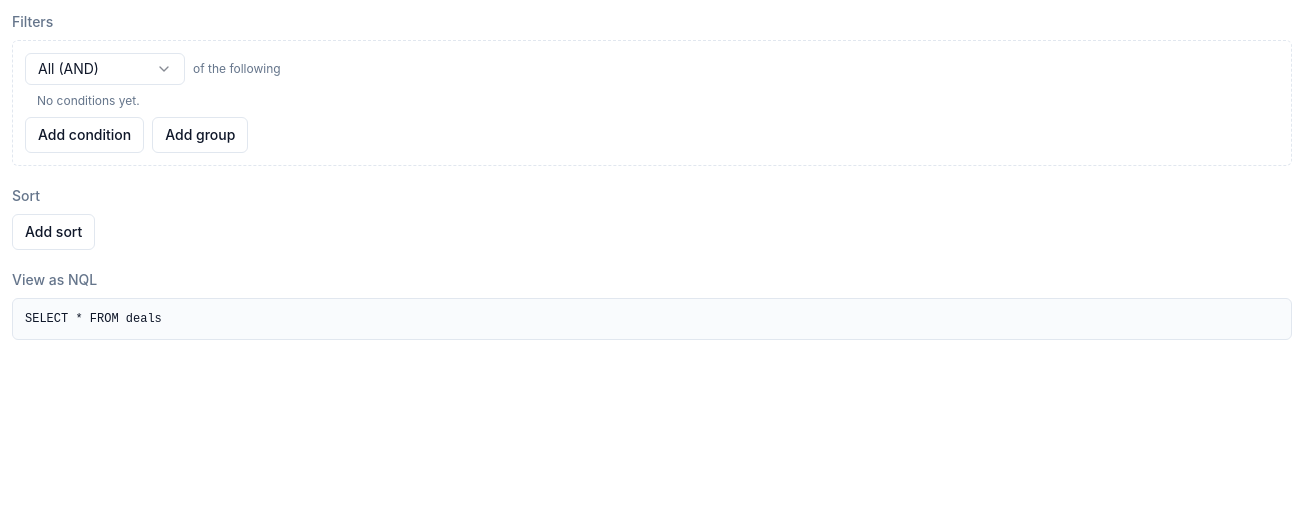
Test: QueryBuilder › splits a list value for an `in` operator
Click the button "Add condition" at (85,135), box [25,117,144,153]
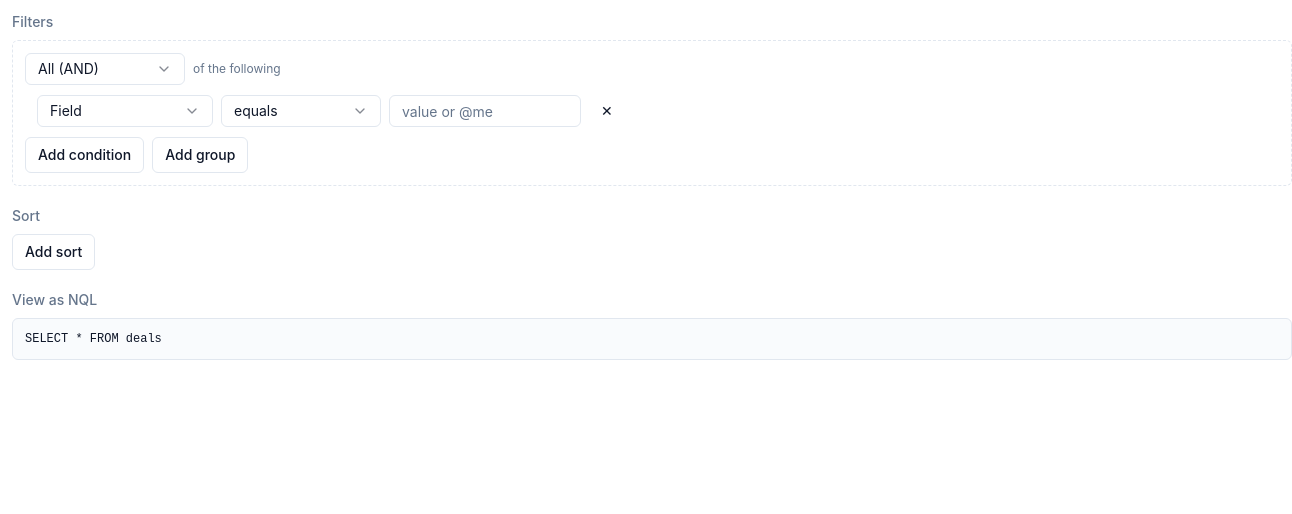
Click the dropdown labelled "Field" at (125,111), box [37,95,213,127]
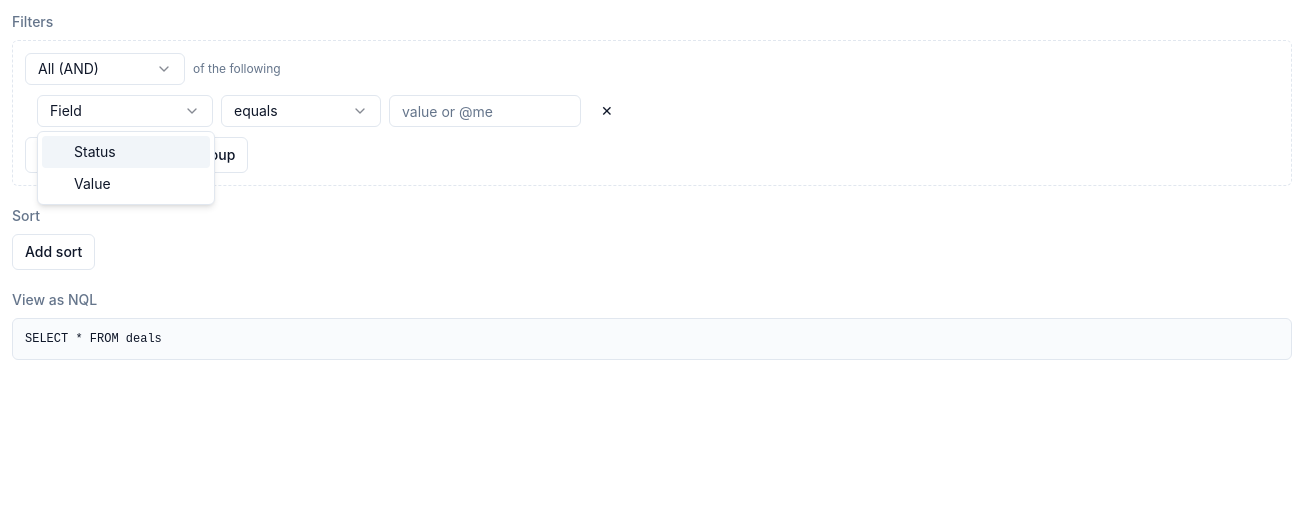
Click the option "Status" at (126,152), box [42,136,210,168]
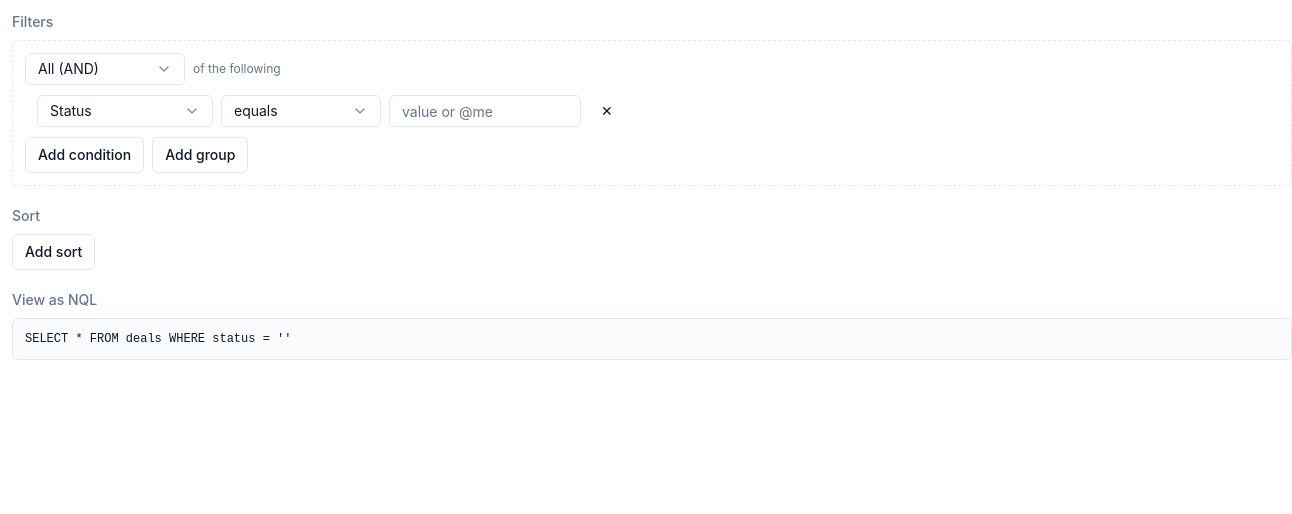
Click the dropdown named "Operator" at (301,111), box [221,95,381,127]
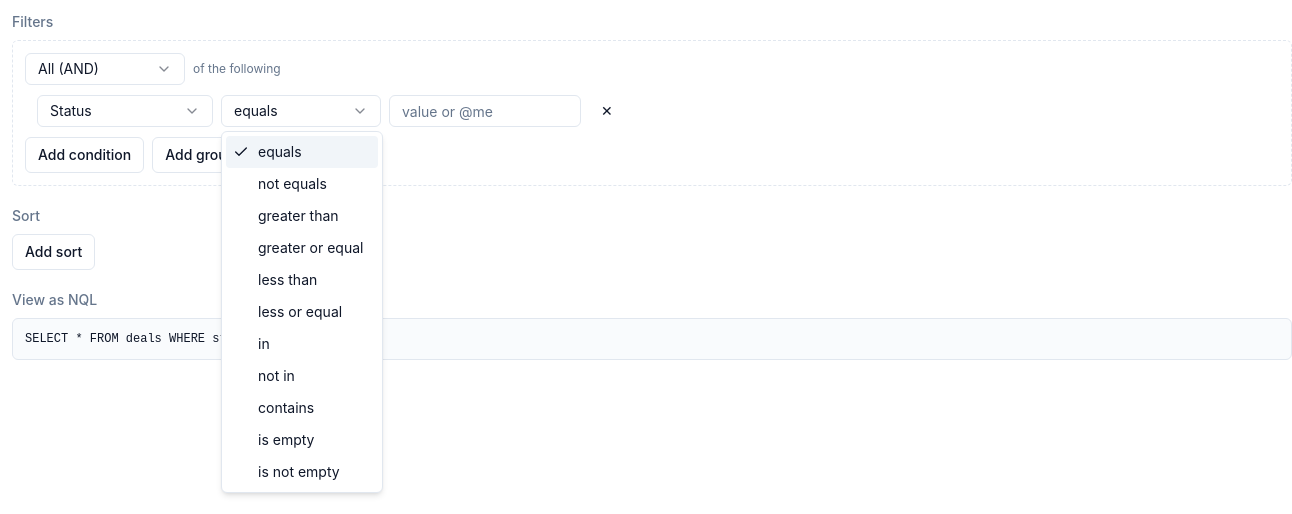
Click the option "in" at (264,344), box [258,335,270,352]
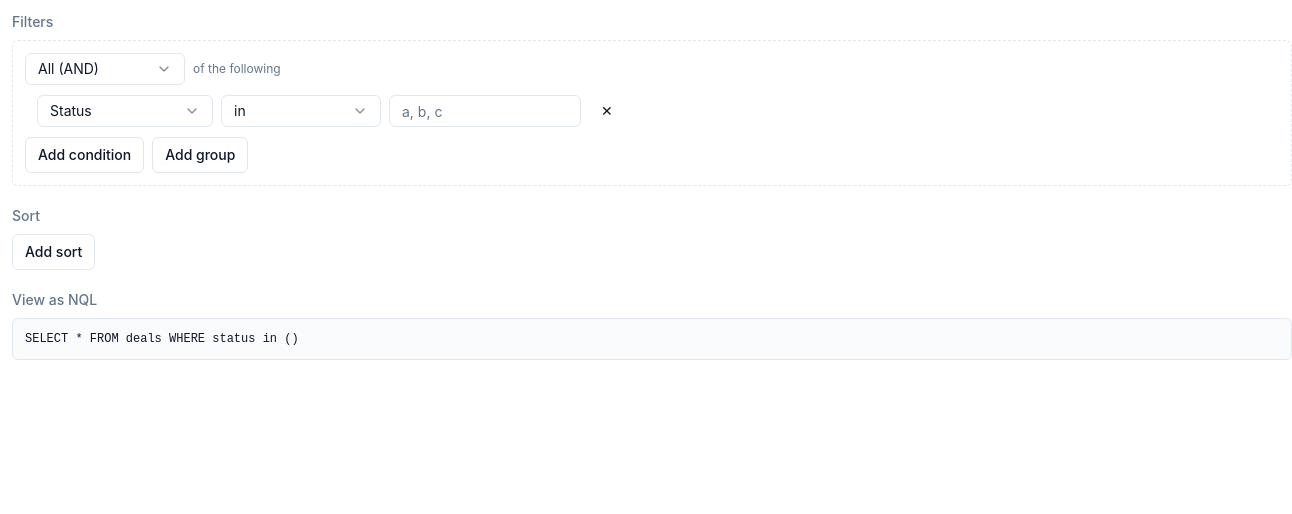
Type "open, won" into the field named "Value" at (485,111), box [389,95,581,127]
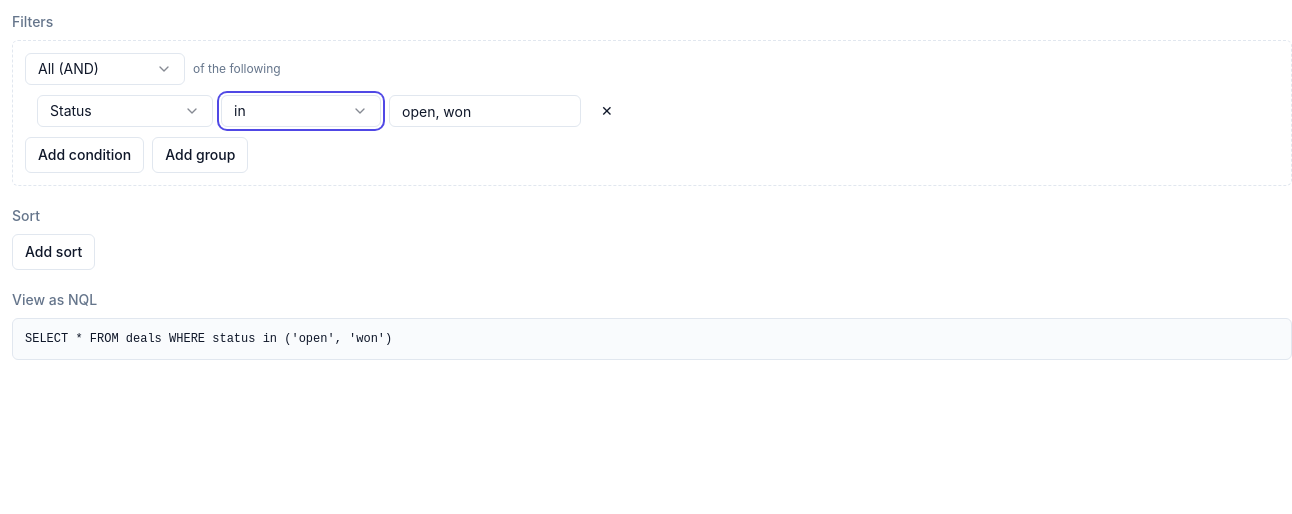
Check: the text named "NQL preview" reads "SELECT * FROM deals WHERE status in ('open', 'won')", box [25,332,392,346]
